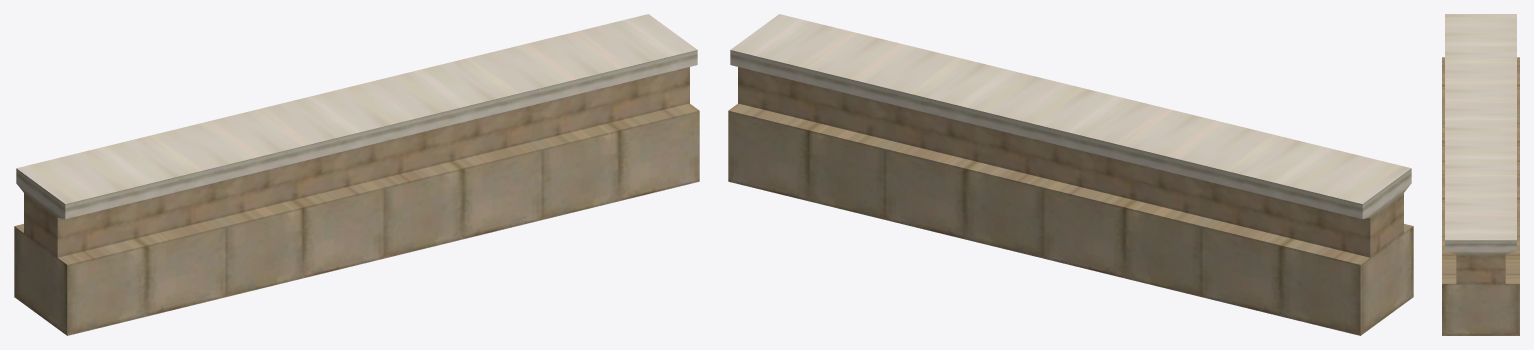
File: thm_nboo_imprv_pristine_wall_sml_s02_l1.fbx
3 renders of one model, left to right at view 1: azimuth 30°, elevation 25°; view 2: azimuth 150°, elevation 25°; view 3: azimuth 270°, elevation 25°, orthographic. The views are drawn at different scales.
Visible parts, largest first — view 1: mesh_node; view 2: mesh_node; view 3: mesh_node.
Part boxes in pixels (left/top/right/bottom): mesh_node: left=14, top=14, right=699, bottom=335; mesh_node: left=728, top=14, right=1413, bottom=335; mesh_node: left=1442, top=14, right=1519, bottom=335.
Size of the model in its own units: 10.01 by 1.97 by 1.45.
1 material, 1 textured.
